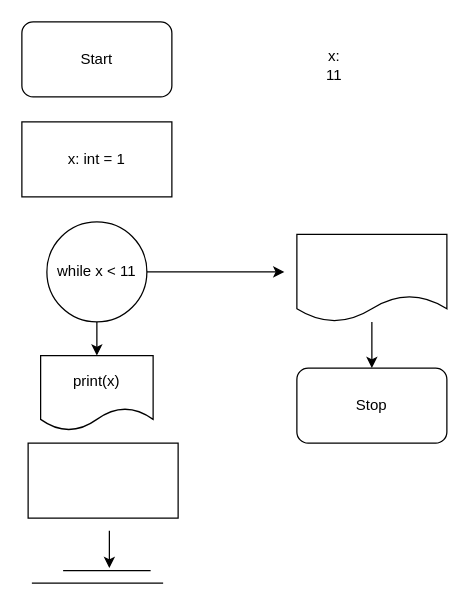
Image size: 469x606. Some labels were removed from this diagram. Here are the shapes that lost their labels. From the top down, the centre of each, then its label:
point 371,277: print("finish")
point 102,480: x = x + 1
